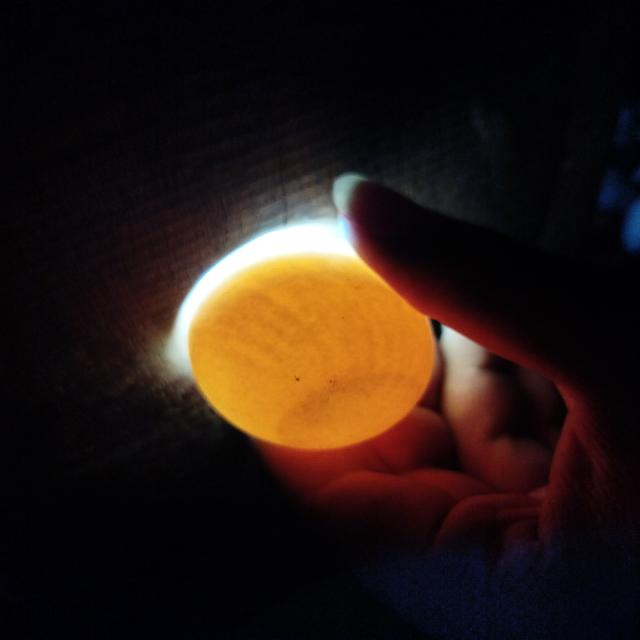Camara de Ar: (276, 379, 420, 449)
